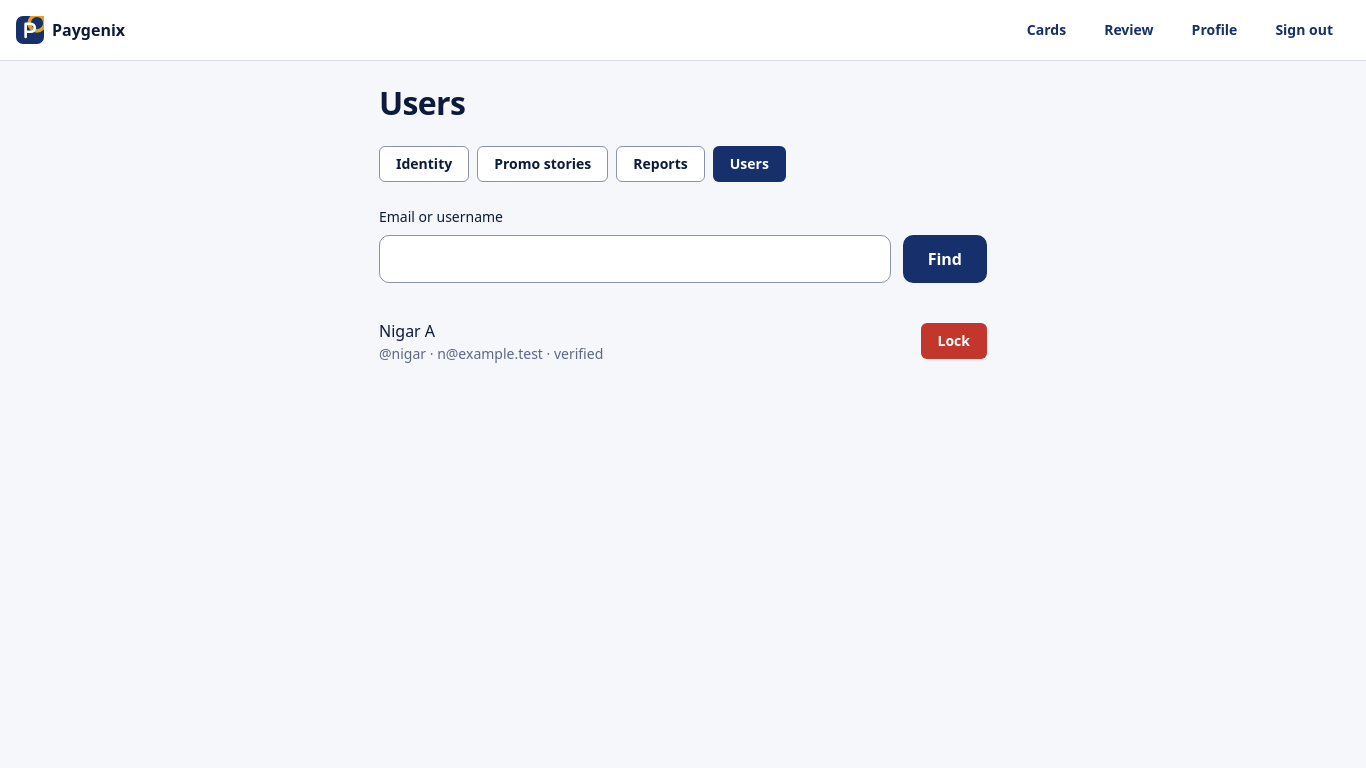
Scenario: a refused lock says why and keeps the dialog
This screenshot has width=1366, height=768.
Click the button with aria-label "Lock nigar" at point(954, 341), box top-left (920, 323), bottom-right (987, 359)
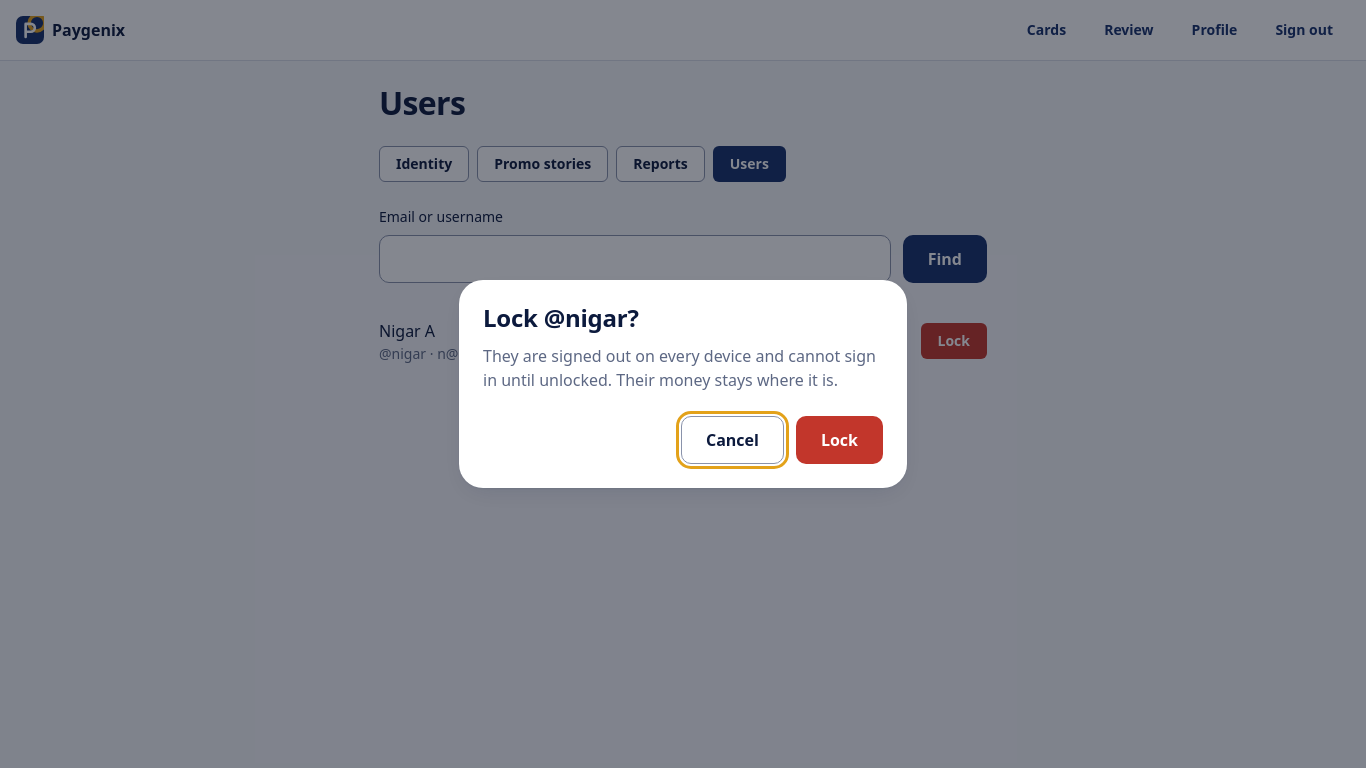
Click the button "Lock" at point(839, 440), box top-left (796, 416), bottom-right (883, 464)
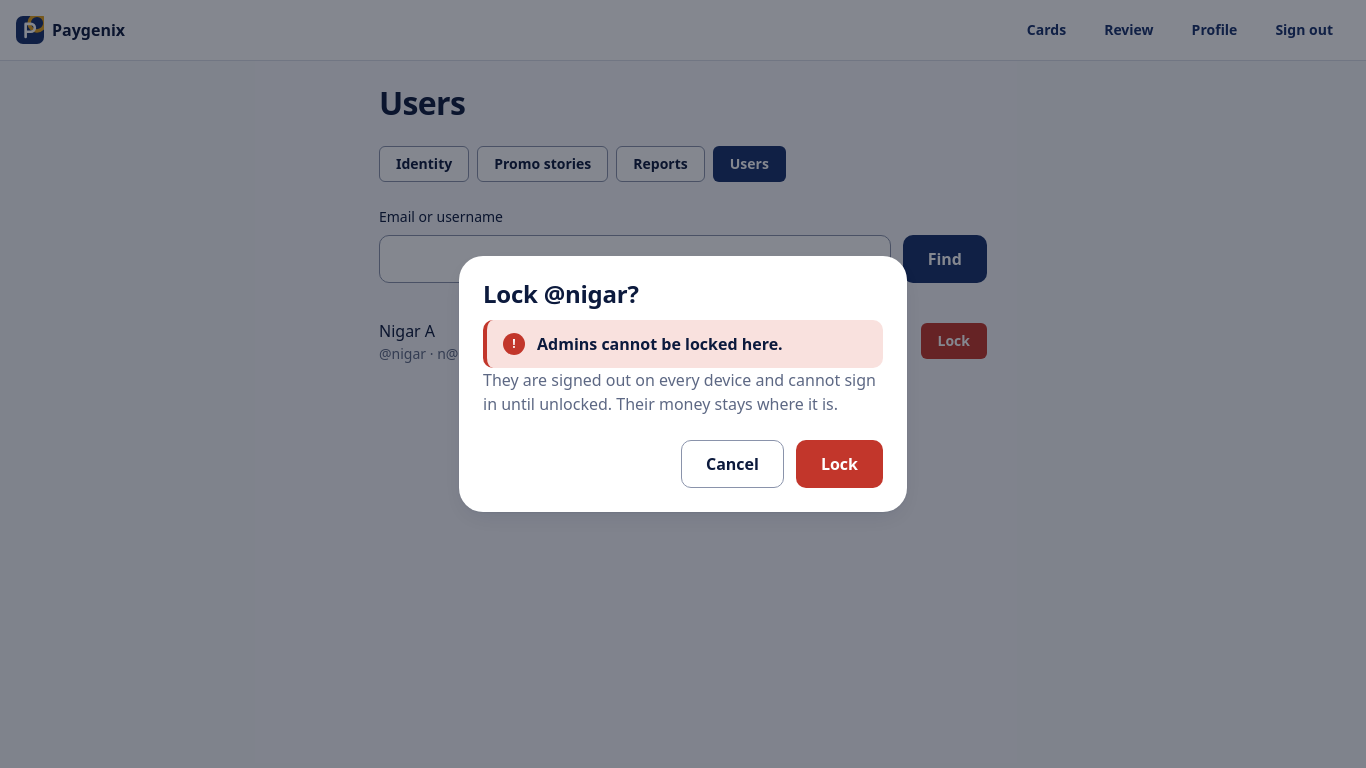
Expected: the text "Admins cannot be locked here." is shown, top-left (537, 333), bottom-right (783, 355)
